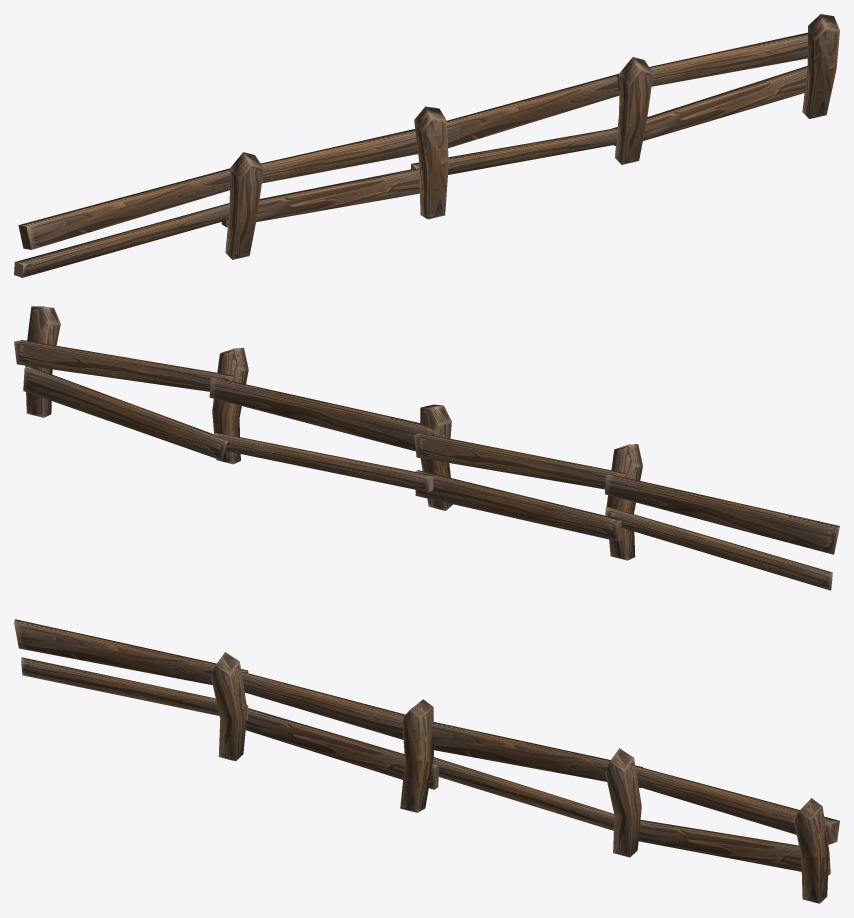
The model's file is fenceWoodLongB.fbx.
3 views of the same model, one above another, from view 1: azimuth 30°, elevation 25°; view 2: azimuth 150°, elevation 25°; view 3: azimuth 330°, elevation 25° (orthographic).
Visible parts, largest first — view 1: fenceWoodLongB; view 2: fenceWoodLongB; view 3: fenceWoodLongB.
Part boxes in pixels (x1,y1,x2,y2): fenceWoodLongB: (14,14,839,277); fenceWoodLongB: (14,306,839,590); fenceWoodLongB: (14,619,839,903).
Size of the model in its own units: 1096 by 140 by 59.64.
